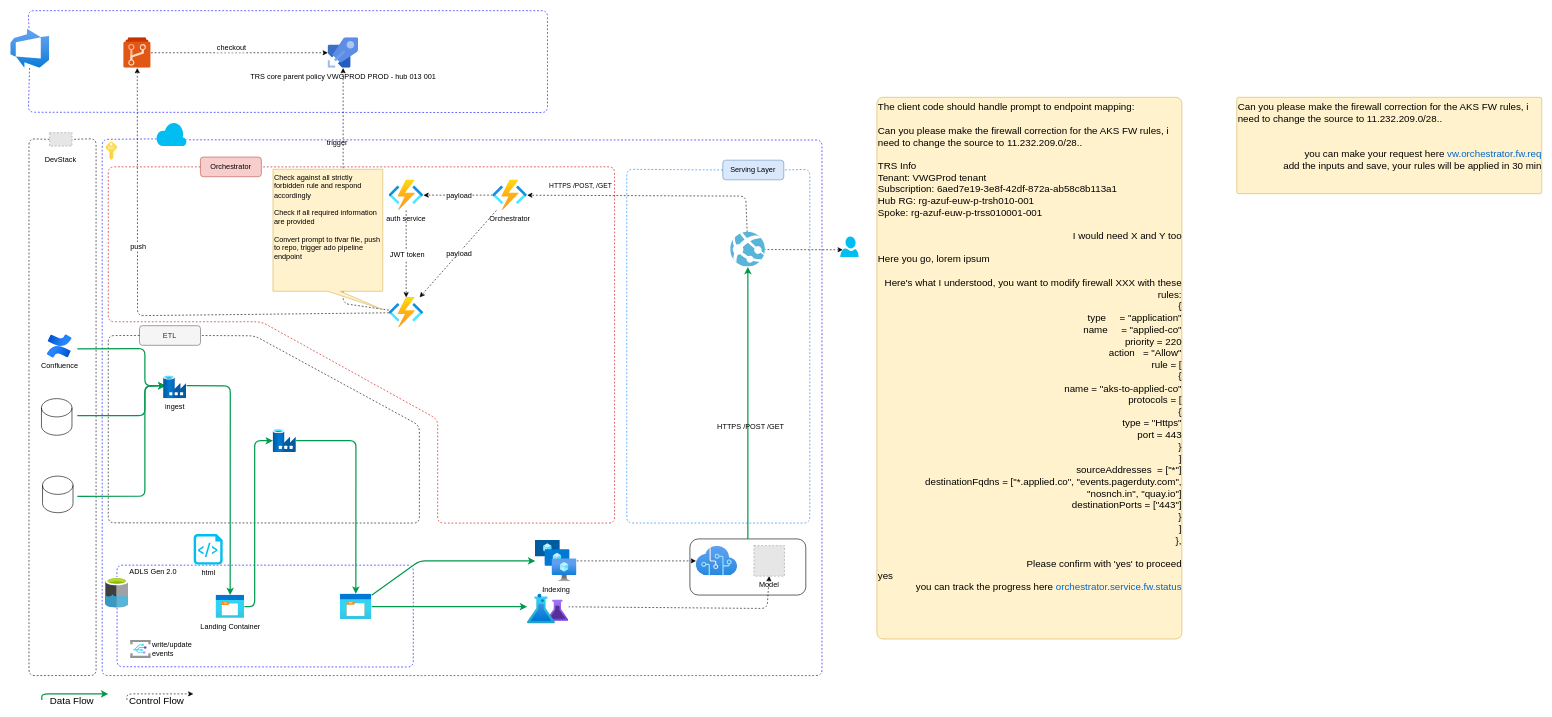
Some shapes in this 1552 by 717 pixel diagram are drawn without their labels. Grey dashed boxes stand in for pictures. Here are the shapes that lost their labels. From the top down, the centre of each, then its label:
At [137,52]: "azuf-dep-t-traffic-regulation-service".
At [111,151]: "AZUF".
At [171,133]: "Azure".
At [849,246]: "business user".
At [406,312]: "firewall service".
At [284,440]: "prep".
At [716,560]: "Search Service".
At [355,606]: "Open AI Container".
At [547,606]: "fine tuning".
